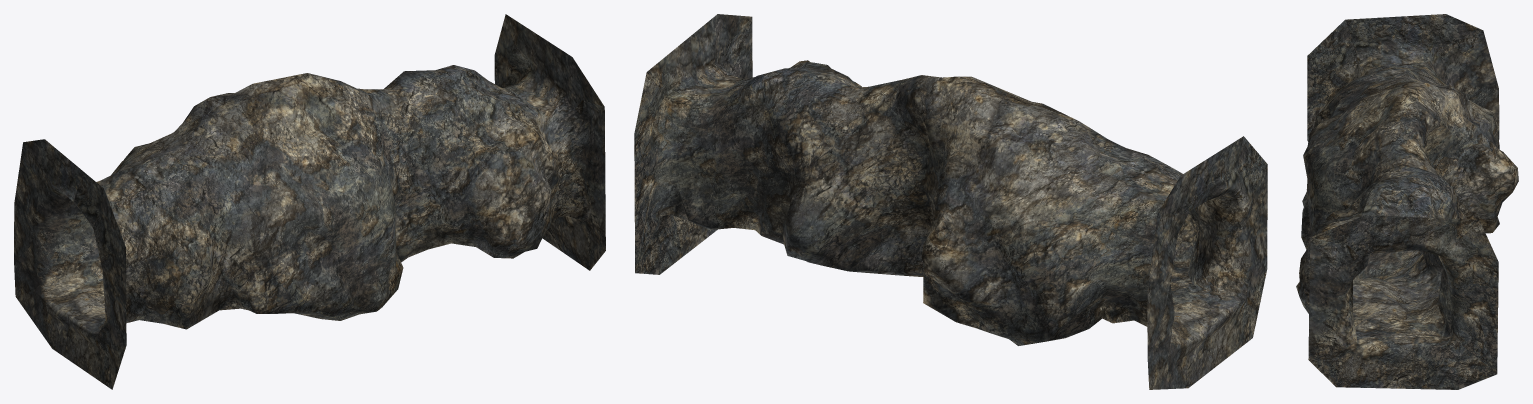
The model's file is Module3.fbx.
The picture shows the model from 3 angles, left to right: view 1: azimuth 30°, elevation 25°; view 2: azimuth 150°, elevation 25°; view 3: azimuth 270°, elevation 25°; orthographic projection. The views are drawn at different scales.
Parts seen in each view (by area): view 1: cave_el3_1400_Group64456; view 2: cave_el3_1400_Group64456; view 3: cave_el3_1400_Group64456.
Boxes of the visible parts, x1=… form: cave_el3_1400_Group64456: x1=14, y1=14, x2=605, y2=389; cave_el3_1400_Group64456: x1=634, y1=14, x2=1267, y2=389; cave_el3_1400_Group64456: x1=1296, y1=14, x2=1518, y2=389.
Size of the model in its own units: 20.75 by 9.06 by 9.44.
